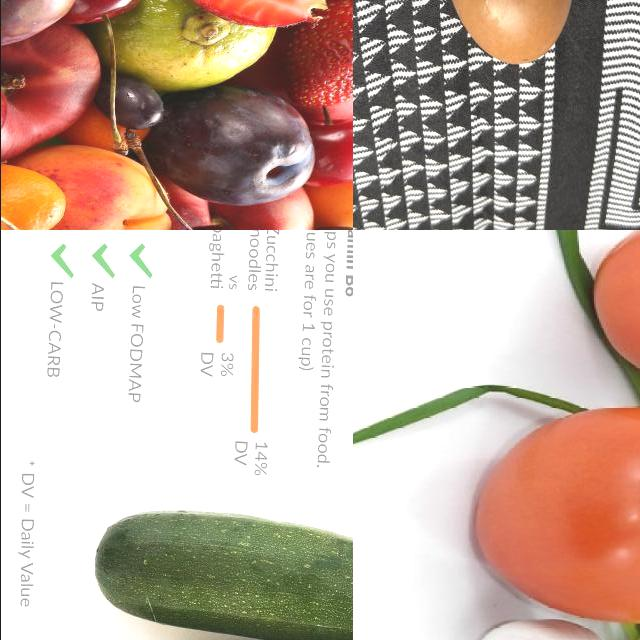egg: (442, 1, 581, 76)
tomato: (477, 406, 640, 621)
zucchini: (83, 507, 353, 640)
